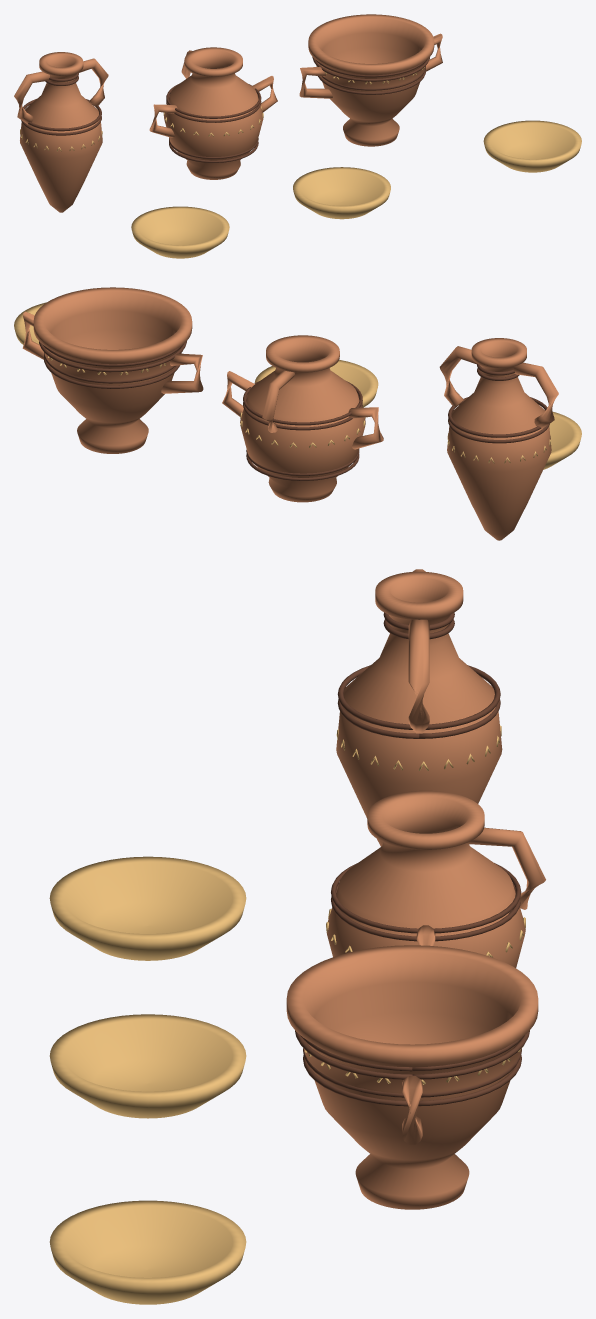
File: pottery-display.glb
3 views of the same model, one above another, from view 1: azimuth 30°, elevation 25°; view 2: azimuth 150°, elevation 25°; view 3: azimuth 270°, elevation 25° (orthographic). The views are drawn at different scales.
Parts seen in each view (by area): view 1: pottery-display__clay, pottery-display__ochre, pottery-display__slip; view 2: pottery-display__clay, pottery-display__slip, pottery-display__ochre; view 3: pottery-display__clay, pottery-display__ochre, pottery-display__slip.
Boxes of the visible parts, <box> form: pottery-display__clay: <box>14,14,442,212</box>; pottery-display__ochre: <box>20,65,581,258</box>; pottery-display__slip: <box>21,57,429,162</box>; pottery-display__clay: <box>22,287,558,540</box>; pottery-display__slip: <box>39,341,549,480</box>; pottery-display__ochre: <box>14,302,581,469</box>; pottery-display__clay: <box>286,569,545,1209</box>; pottery-display__ochre: <box>49,725,525,1304</box>; pottery-display__slip: <box>295,612,529,1106</box>.
Size of the model in its own units: 3.36 by 0.9792 by 1.46.
